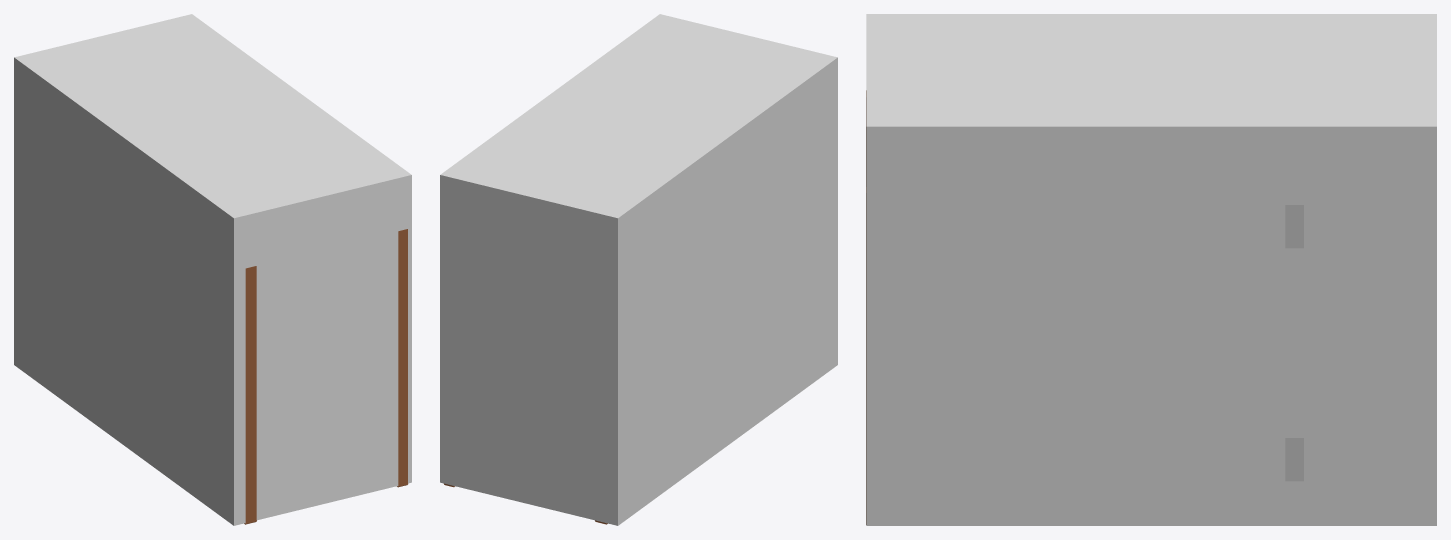
The model's file is bunk-bed-01.glb.
3 views of the same model, side by side, from view 1: azimuth 30°, elevation 25°; view 2: azimuth 150°, elevation 25°; view 3: azimuth 270°, elevation 25° (orthographic). The views are drawn at different scales.
Visible parts, largest first — view 1: Bunk bed_col, Bunk bed; view 2: Bunk bed_col; view 3: Bunk bed_col, Bunk bed.
Boxes of the visible parts, left/top/right/bottom form: Bunk bed_col: left=14, top=14, right=411, bottom=525; Bunk bed: left=244, top=229, right=408, bottom=524; Bunk bed_col: left=440, top=14, right=837, bottom=525; Bunk bed_col: left=866, top=14, right=1436, bottom=525; Bunk bed: left=866, top=90, right=1303, bottom=524.
Bounding box in the file's own units: 5.19 × 8.62 × 11.1.
